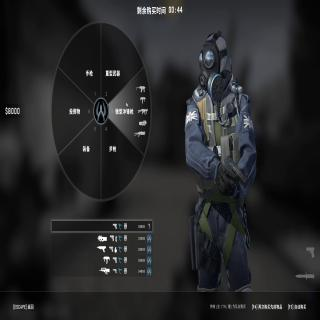CT-Body: (184, 33, 256, 296)
CT-Head: (196, 33, 228, 84)
